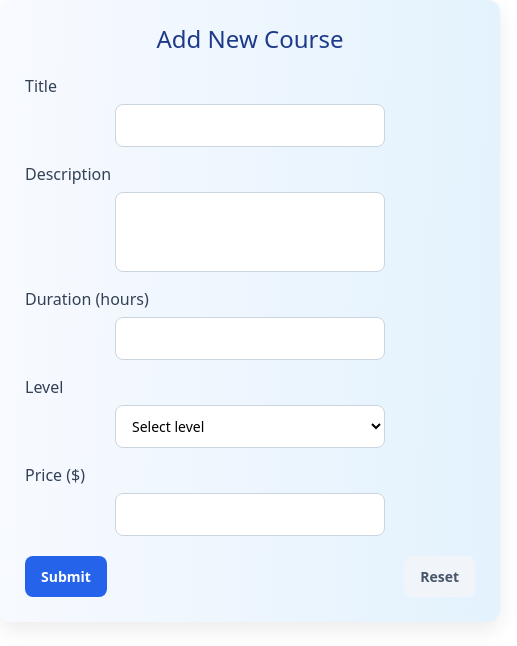
Test: Form_reset button clears form
Type "abc" into the field with test id "title-input" at (250, 125), box [115,104,385,147]
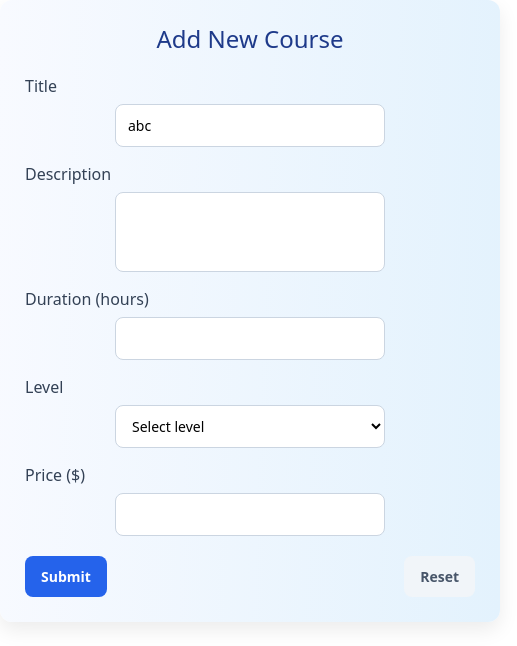
Type "7" into the number field with test id "duration-input" at (250, 338), box [115,317,385,360]
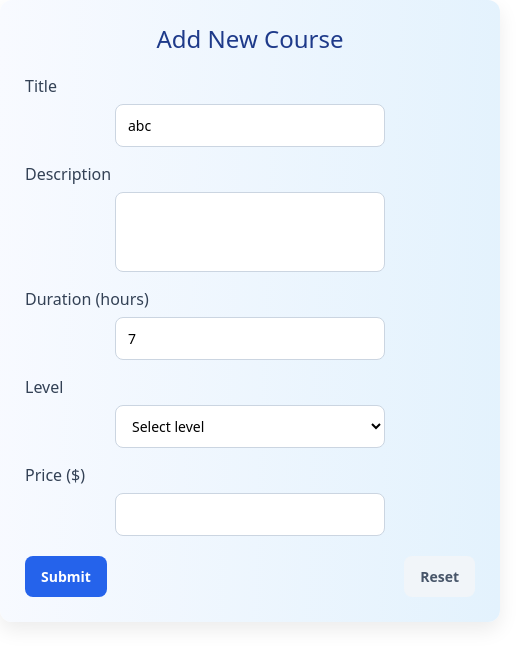
Click the button with test id "reset-btn" at (440, 576), box [404,556,475,597]
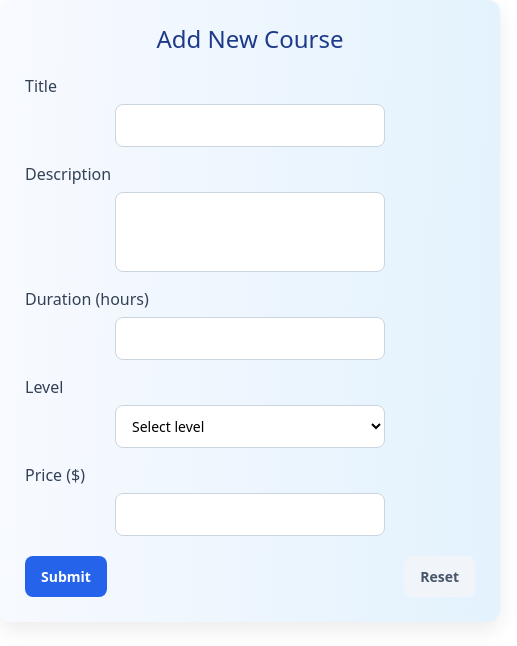
Now the field with test id "title-input" is empty, box [115,104,385,147]
Now the number field with test id "duration-input" is empty, box [115,317,385,360]
